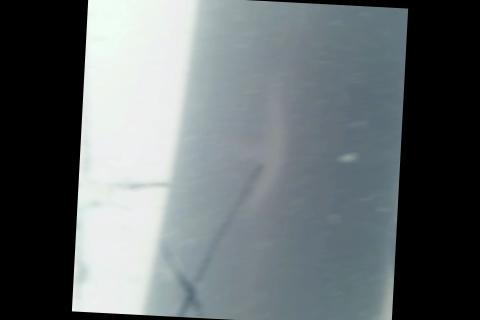keretakan: (152, 151, 270, 320)
